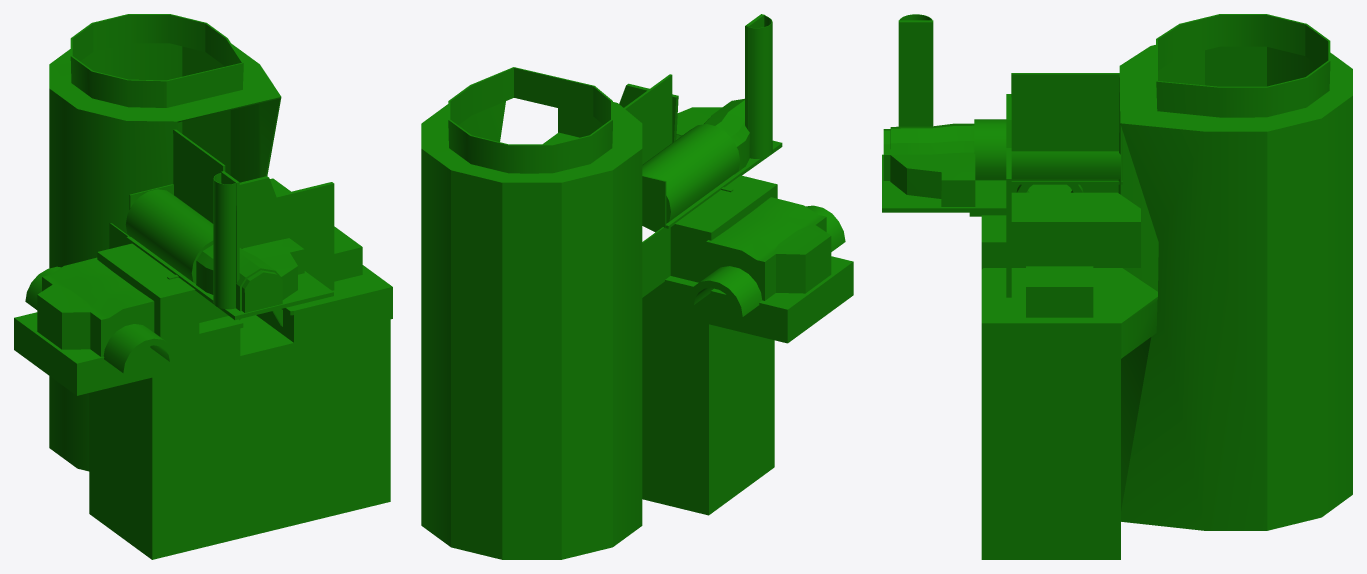
Rendered from M_PlayerbaseColliders latest.FBX.
3 renders of one model, left to right at view 1: azimuth 30°, elevation 25°; view 2: azimuth 150°, elevation 25°; view 3: azimuth 270°, elevation 25°, orthographic. The views are drawn at different scales.
Parts seen in each view (by area): view 1: Box016; view 2: Box016; view 3: Box016.
Boxes of the visible parts, x1,y1,x2,y2 form: Box016: (14, 14, 392, 559); Box016: (421, 14, 853, 559); Box016: (882, 14, 1352, 559).
Size of the model in its own units: 1656 by 1996 by 1926.
